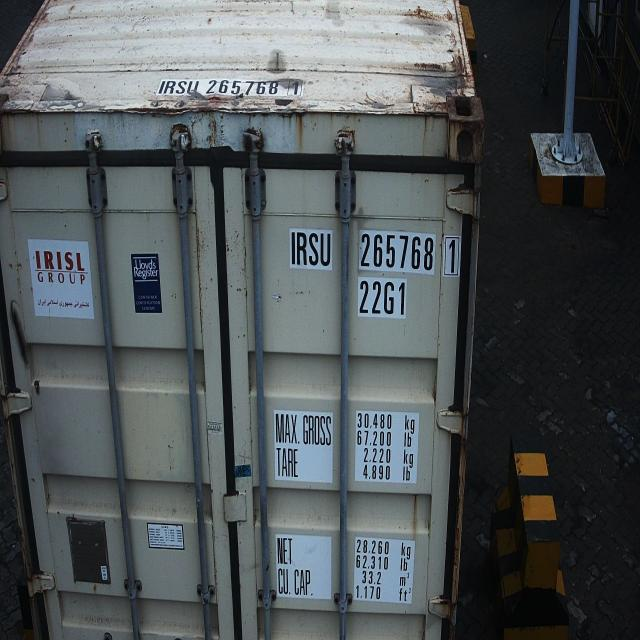container-number: (290, 230, 462, 280)
